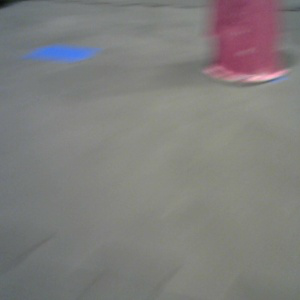Right: (204, 2, 287, 83)
